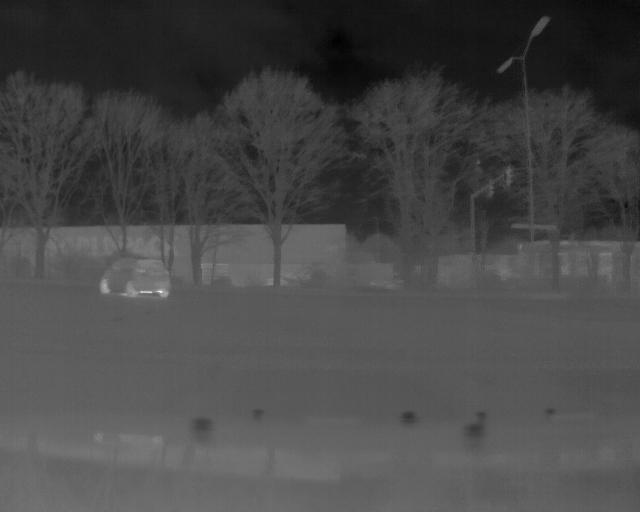car: (94, 259, 171, 299)
